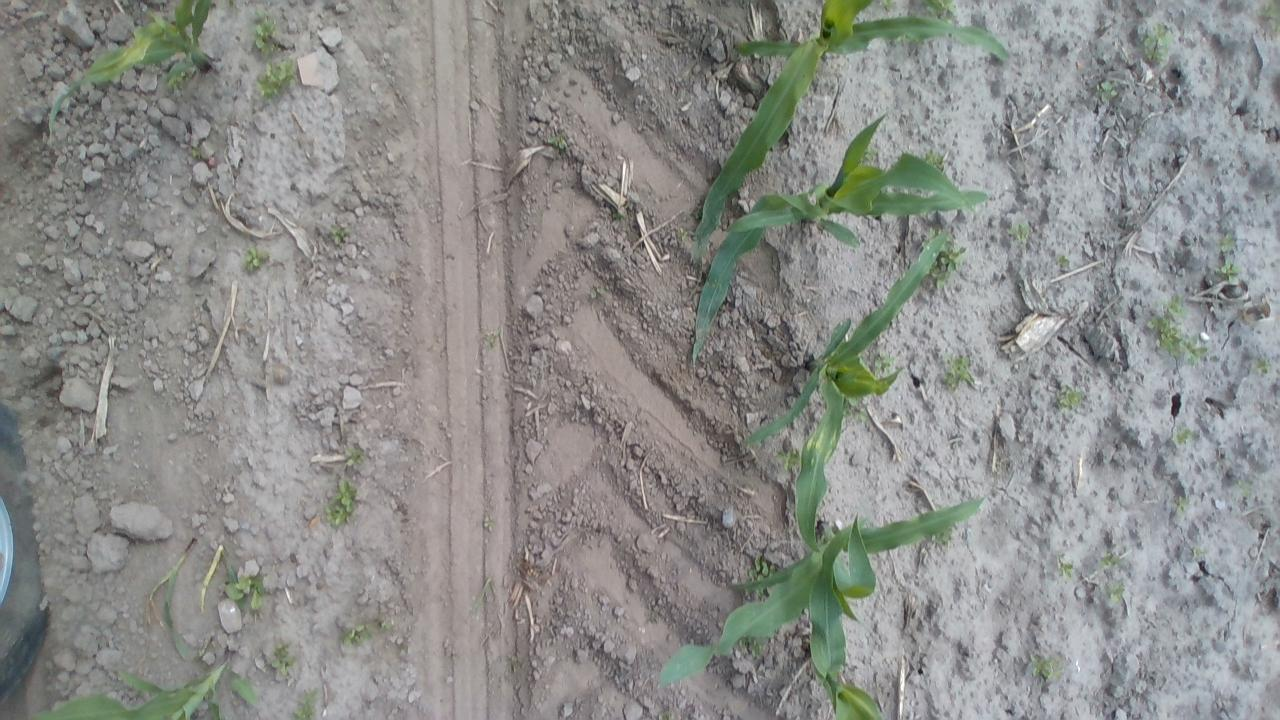Maize: (688, 0, 1010, 266), (690, 113, 995, 380), (739, 219, 955, 558), (652, 487, 989, 695), (40, 0, 226, 147), (25, 638, 262, 720), (802, 510, 891, 720), (139, 526, 228, 662)
Weeds: (1144, 295, 1210, 366), (254, 56, 300, 102), (224, 570, 266, 614), (323, 478, 358, 528), (929, 248, 966, 290), (936, 351, 974, 390), (1140, 22, 1176, 62), (1024, 648, 1066, 682), (334, 618, 381, 647), (266, 640, 298, 682), (252, 12, 284, 54), (291, 687, 322, 719), (1054, 384, 1087, 413), (776, 443, 804, 473), (1006, 218, 1034, 248), (1170, 422, 1196, 452), (742, 632, 768, 660), (242, 246, 270, 272), (923, 0, 961, 18), (1214, 258, 1240, 284), (1259, 0, 1280, 32), (748, 556, 776, 580), (1098, 78, 1123, 104), (1104, 581, 1130, 605), (872, 349, 898, 372), (1236, 475, 1256, 503), (1054, 556, 1077, 580), (327, 224, 350, 248), (344, 444, 366, 469), (849, 398, 870, 424), (546, 130, 568, 154), (1216, 234, 1242, 254), (922, 148, 945, 170), (1099, 548, 1122, 570), (481, 326, 502, 350), (478, 576, 496, 604), (1250, 354, 1272, 376), (931, 528, 955, 548), (672, 222, 694, 243), (1052, 252, 1072, 270), (1172, 494, 1190, 514), (190, 142, 208, 160), (588, 285, 605, 304), (1190, 542, 1206, 561), (480, 514, 496, 532), (863, 148, 878, 160), (878, 0, 896, 10)
